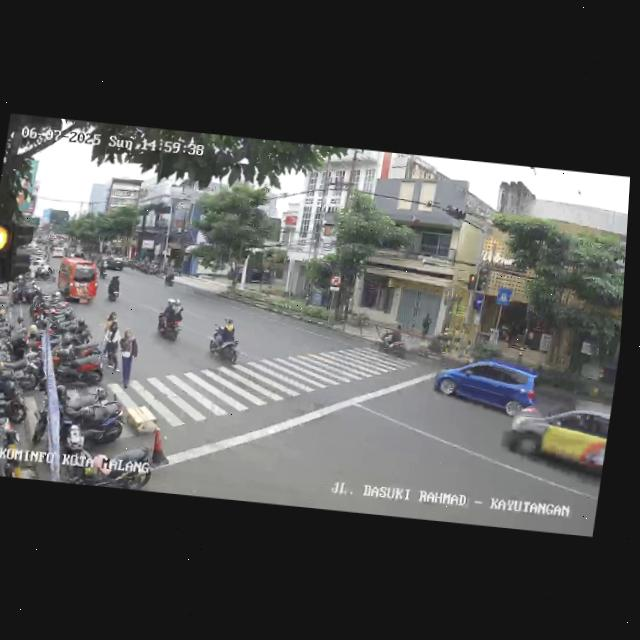car: (494, 395, 611, 486), (428, 350, 540, 422), (53, 256, 101, 305)
motorcycle: (204, 318, 244, 364), (153, 297, 187, 342), (372, 322, 410, 360), (104, 273, 123, 302), (163, 267, 178, 287)
person: (112, 328, 140, 390), (100, 321, 125, 373), (98, 310, 118, 359)
